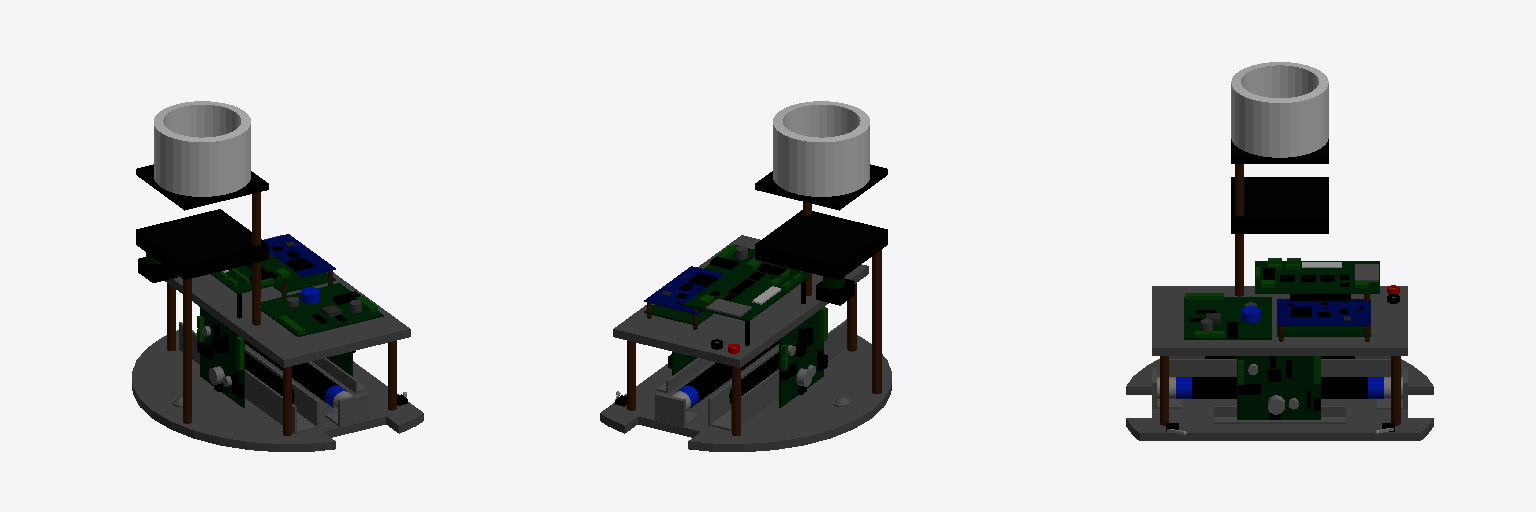
Rendered from minibot_frame.obj.
The picture shows the model from 3 angles: view 1: azimuth 30°, elevation 25°; view 2: azimuth 150°, elevation 25°; view 3: azimuth 270°, elevation 25°; orthographic projection.
Parts seen in each view (by area): view 1: Cylinder_Cylinder.001, Cylinder.035, Cube_Cube.004, Cube.001_Cube.005, Cube.071_Cube.022, Cube.076_Cube.043, Cube.003_Cube.001, Cube.077_Cube.044, Cylinder.007_Cylinder.008, Cube.073_Cube.024, Cylinder.009_Cylinder.011, Cube.074_Cube.025 (+9 smaller); view 2: Cylinder_Cylinder.001, Cylinder.035, Cube_Cube.004, Cube.001_Cube.005, Cube.074_Cube.025, Cube.003_Cube.001, Cube.076_Cube.043, Cylinder.007_Cylinder.008, Cube.077_Cube.044, Cube.073_Cube.024, Cylinder.009_Cylinder.011, Cube.007_Cube.008 (+8 smaller); view 3: Cylinder_Cylinder.001, Cube_Cube.004, Cylinder.035, Cube.001_Cube.005, Cube.075_Cube.039, Cube.071_Cube.022, Cube.004_Cube.002, Cube.074_Cube.025, Cylinder.009_Cylinder.011, Cube.073_Cube.024, Cube.077_Cube.044, Cube.072_Cube.023 (+5 smaller).
Part boxes in pixels (left/top/right/bottom): Cylinder_Cylinder.001: left=132, top=330, right=423, bottom=451; Cylinder.035: left=154, top=101, right=250, bottom=196; Cube_Cube.004: left=165, top=235, right=410, bottom=367; Cube.001_Cube.005: left=136, top=209, right=268, bottom=279; Cube.071_Cube.022: left=261, top=283, right=383, bottom=336; Cube.076_Cube.043: left=200, top=307, right=244, bottom=407; Cube.003_Cube.001: left=179, top=322, right=296, bottom=433; Cube.077_Cube.044: left=136, top=164, right=268, bottom=210; Cylinder.007_Cylinder.008: left=183, top=279, right=191, bottom=423; Cube.073_Cube.024: left=264, top=234, right=335, bottom=277; Cylinder.009_Cylinder.011: left=245, top=340, right=338, bottom=402; Cube.074_Cube.025: left=211, top=253, right=302, bottom=293; Cylinder_Cylinder.001: left=600, top=335, right=891, bottom=451; Cylinder.035: left=773, top=101, right=869, bottom=196; Cube_Cube.004: left=613, top=235, right=868, bottom=367; Cube.001_Cube.005: left=755, top=210, right=887, bottom=279; Cube.074_Cube.025: left=684, top=259, right=810, bottom=321; Cube.003_Cube.001: left=731, top=319, right=846, bottom=428; Cube.076_Cube.043: left=779, top=310, right=823, bottom=407; Cylinder.007_Cylinder.008: left=872, top=250, right=881, bottom=393; Cube.077_Cube.044: left=755, top=164, right=887, bottom=210; Cube.073_Cube.024: left=644, top=266, right=724, bottom=314; Cylinder.009_Cylinder.011: left=685, top=340, right=778, bottom=402; Cube.007_Cube.008: left=655, top=393, right=685, bottom=426; Cylinder_Cylinder.001: left=1126, top=359, right=1433, bottom=440; Cube_Cube.004: left=1152, top=286, right=1407, bottom=355; Cylinder.035: left=1231, top=62, right=1328, bottom=157; Cube.001_Cube.005: left=1231, top=177, right=1328, bottom=233; Cube.075_Cube.039: left=1237, top=356, right=1320, bottom=419; Cube.071_Cube.022: left=1184, top=297, right=1271, bottom=339; Cube.004_Cube.002: left=1169, top=359, right=1390, bottom=376; Cube.074_Cube.025: left=1255, top=261, right=1379, bottom=293; Cylinder.009_Cylinder.011: left=1192, top=377, right=1367, bottom=398; Cube.073_Cube.024: left=1277, top=299, right=1370, bottom=325; Cube.077_Cube.044: left=1231, top=139, right=1328, bottom=163; Cube.072_Cube.023: left=1277, top=326, right=1370, bottom=336.
Bounding box in the file's own units: 0.1952 × 0.2671 × 0.2522.